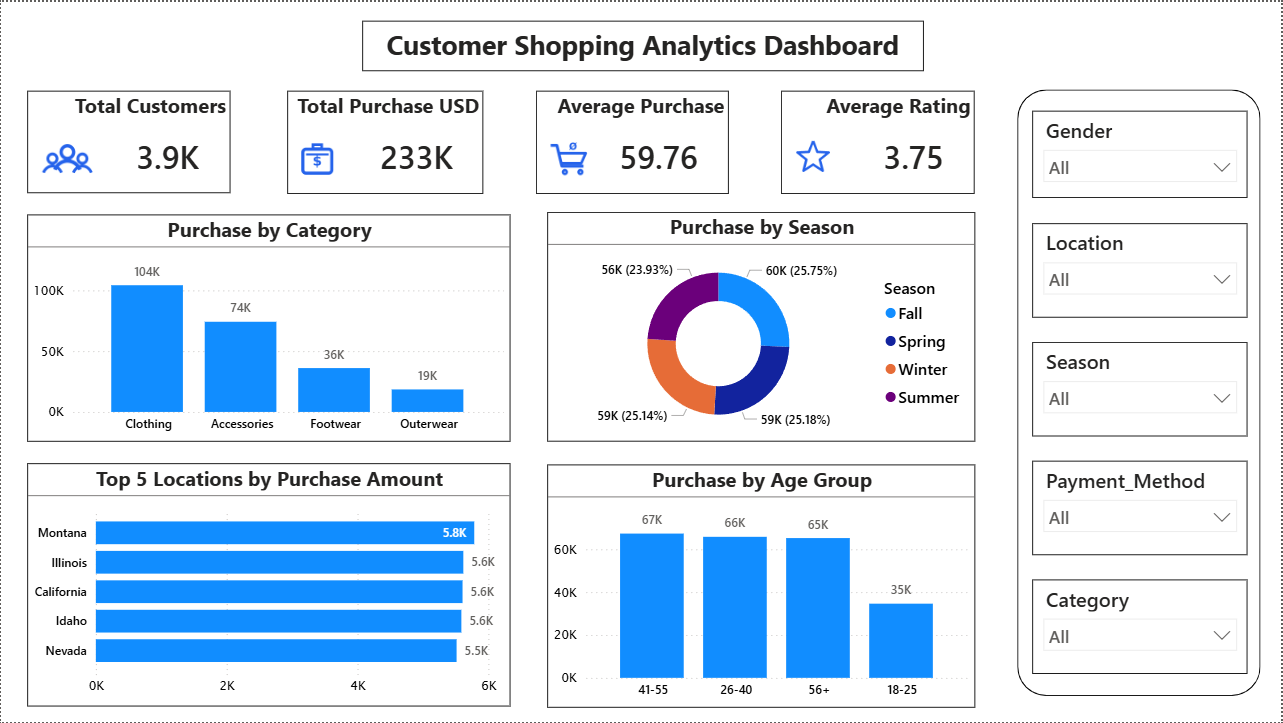

What the dashboard file says about the page in this screenshot:
{"tool":"powerbi","page":{"name":"Customer Analytics Dashboard","canvas":[1280,720],"ordinal":0},"visuals":[{"type":"cardVisual","title":"Total Customers","fields":{"Data":["shopping_table.Total Customers"]},"box":[25.7,88.3,203,102.7],"z":0},{"type":"cardVisual","title":"Total Purchase USD","fields":{"Data":["Sum(shopping_table.Purchase_Amount_USD)"]},"box":[285.7,88.3,196.2,103],"z":1000},{"type":"cardVisual","title":"Average Purchase","fields":{"Data":["shopping_table.Average Purchase"]},"box":[534.7,88.3,192.5,103],"z":2000},{"type":"cardVisual","title":"Average Rating ","fields":{"Data":["shopping_table.Average Rating"]},"box":[779.9,88.3,193.8,103],"z":3000},{"type":"clusteredColumnChart","title":"Purchase by Category","fields":{"Category":["shopping_table.Category"],"Y":["Sum(shopping_table.Purchase_Amount_USD)"]},"box":[25.7,212.5,483,227.4],"z":4000},{"type":"donutChart","title":"Purchase by Season","fields":{"Category":["shopping_table.Season"],"Y":["Sum(shopping_table.Purchase_Amount_USD)"]},"box":[546.6,210,428,229.9],"z":5000},{"type":"clusteredBarChart","title":"Top 5 Locations by Purchase Amount","fields":{"Category":["shopping_table.Location"],"Y":["Sum(shopping_table.Purchase_Amount_USD)"]},"box":[25.7,461.2,483,243.3],"z":6000},{"type":"clusteredColumnChart","title":"Purchase by Age Group","fields":{"Category":["shopping_table.Age Group"],"Y":["Sum(shopping_table.Purchase_Amount_USD)"]},"box":[546.6,462.2,428,243.3],"z":7000},{"type":"shape","box":[1016.2,88,243.3,606.5],"z":8000},{"type":"slicer","fields":{"Values":["shopping_table.Location"]},"box":[1030.8,221.3,215.2,94.2],"z":9000},{"type":"slicer","fields":{"Values":["shopping_table.Gender"]},"box":[1030.8,108.8,215.2,86.8],"z":10000},{"type":"slicer","fields":{"Values":["shopping_table.Season"]},"box":[1030.8,339.9,215.2,94.2],"z":11000},{"type":"slicer","fields":{"Values":["shopping_table.Payment_Method"]},"box":[1030.8,458.6,215.2,94.2],"z":12000},{"type":"slicer","fields":{"Values":["shopping_table.Category"]},"box":[1030.8,577.2,215.2,94.2],"z":13000},{"type":"textbox","box":[360.7,18.3,561.3,50.1],"z":14000},{"type":"image","box":[28.8,132.5,75,61.2],"z":15000},{"type":"image","box":[286.2,128.8,60,57.5],"z":16000},{"type":"image","box":[532.5,127.5,71.2,57.5],"z":17000},{"type":"image","box":[782.5,130,58.8,51.2],"z":18000}]}

Visuals, with their boxes in screenshot pixels (x1, y1, x2, y2), scaled from the page's 1280x720 canvas onto the 1283x723 screenshot:
"Total Customers" cardVisual: Rect(26, 89, 229, 192)
"Total Purchase USD" cardVisual: Rect(286, 89, 483, 192)
"Average Purchase" cardVisual: Rect(536, 89, 729, 192)
"Average Rating " cardVisual: Rect(782, 89, 976, 192)
"Purchase by Category" clusteredColumnChart: Rect(26, 213, 510, 442)
"Purchase by Season" donutChart: Rect(548, 211, 977, 442)
"Top 5 Locations by Purchase Amount" clusteredBarChart: Rect(26, 463, 510, 707)
"Purchase by Age Group" clusteredColumnChart: Rect(548, 464, 977, 708)
shape: Rect(1019, 88, 1262, 697)
slicer - shopping_table.Location: Rect(1033, 222, 1249, 317)
slicer - shopping_table.Gender: Rect(1033, 109, 1249, 196)
slicer - shopping_table.Season: Rect(1033, 341, 1249, 436)
slicer - shopping_table.Payment_Method: Rect(1033, 461, 1249, 555)
slicer - shopping_table.Category: Rect(1033, 580, 1249, 674)
textbox: Rect(362, 18, 924, 69)
image: Rect(29, 133, 104, 195)
image: Rect(287, 129, 347, 187)
image: Rect(534, 128, 605, 186)
image: Rect(784, 131, 843, 182)
